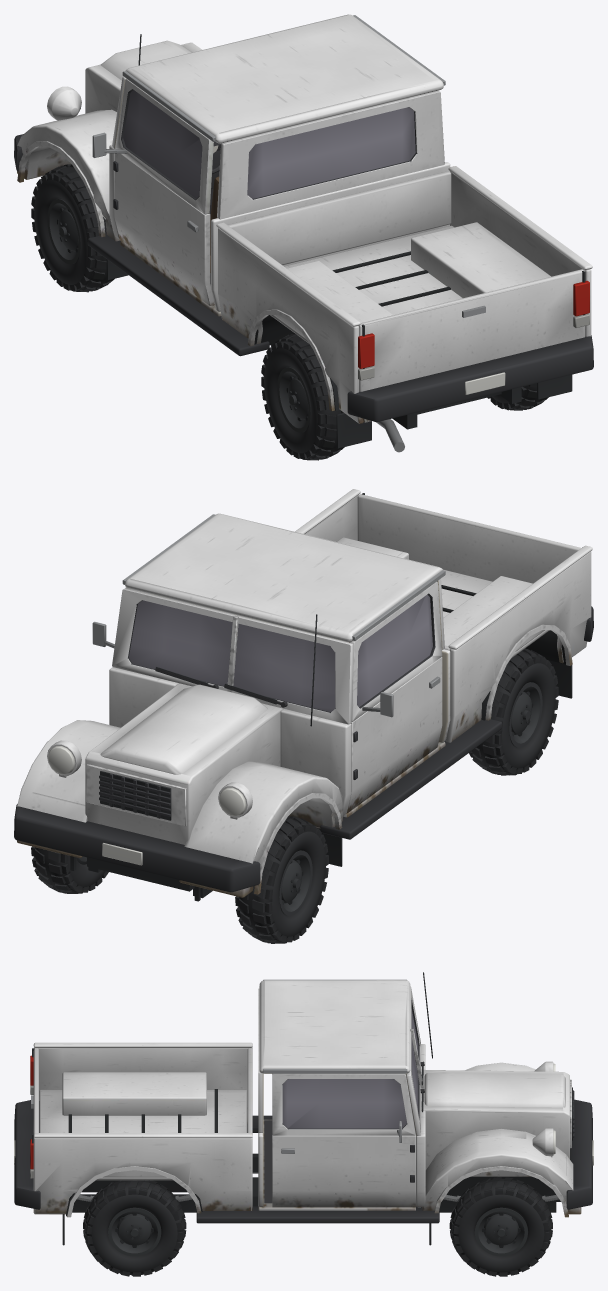
Rendered from powerline.glb.
3 renders of one model, top to bottom at view 1: azimuth 30°, elevation 25°; view 2: azimuth 150°, elevation 25°; view 3: azimuth 270°, elevation 25°, orthographic. The views are drawn at different scales.
Visible parts, largest first — view 1: body, door_FL, wheel_RL, wheel_FL, wheel_RR, cab_interior; view 2: body, door_FL, wheel_FL, wheel_RL, wheel_FR; view 3: body, door_FR, wheel_FR, wheel_RR, cab_interior.
Boxes of the visible parts, x1=… form: body: x1=14, y1=14, x2=593, y2=452; door_FL: x1=92, y1=79, x2=214, y2=305; wheel_RL: x1=261, y1=333, x2=344, y2=460; wheel_FL: x1=31, y1=164, x2=114, y2=292; wheel_RR: x1=487, y1=383, x2=548, y2=410; cab_interior: x1=209, y1=145, x2=220, y2=284; body: x1=14, y1=489, x2=593, y2=901; door_FL: x1=347, y1=581, x2=442, y2=813; wheel_FL: x1=235, y1=816, x2=328, y2=943; wheel_RL: x1=469, y1=648, x2=558, y2=775; wheel_FR: x1=31, y1=846, x2=108, y2=893; body: x1=14, y1=972, x2=593, y2=1245; door_FR: x1=272, y1=1073, x2=415, y2=1207; wheel_FR: x1=449, y1=1177, x2=552, y2=1276; wheel_RR: x1=83, y1=1180, x2=186, y2=1276; cab_interior: x1=264, y1=1073, x2=415, y2=1203.
Size of the model in its own units: 2.41 by 2.19 by 5.06.
Materials: 16 (1 with a texture image).
